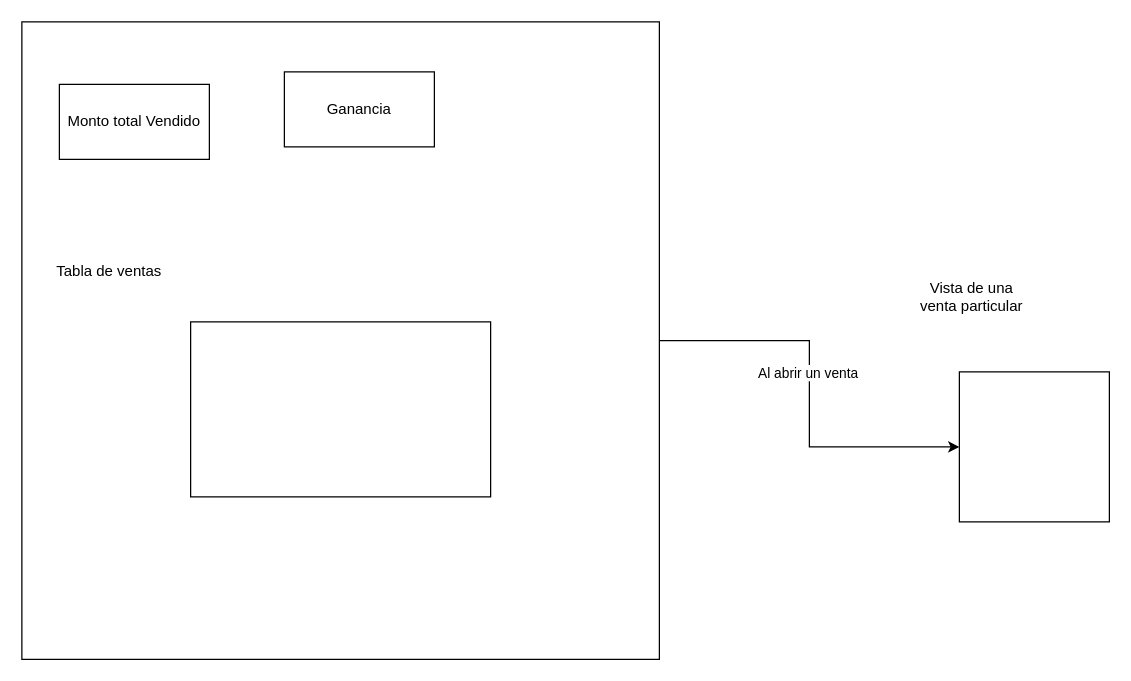
This 1131x681 diagram has some shape labels left out. Here are the shapes that lost their labels. From the top down, the centre of each, then its label:
At (x=340, y=409): "Campos a mostrar - Fecha de la venta - Cliente - monto - Cantidad - Vendedor".
At (x=1033, y=446): "- Articulos en esa venta - Datos de la venta".
